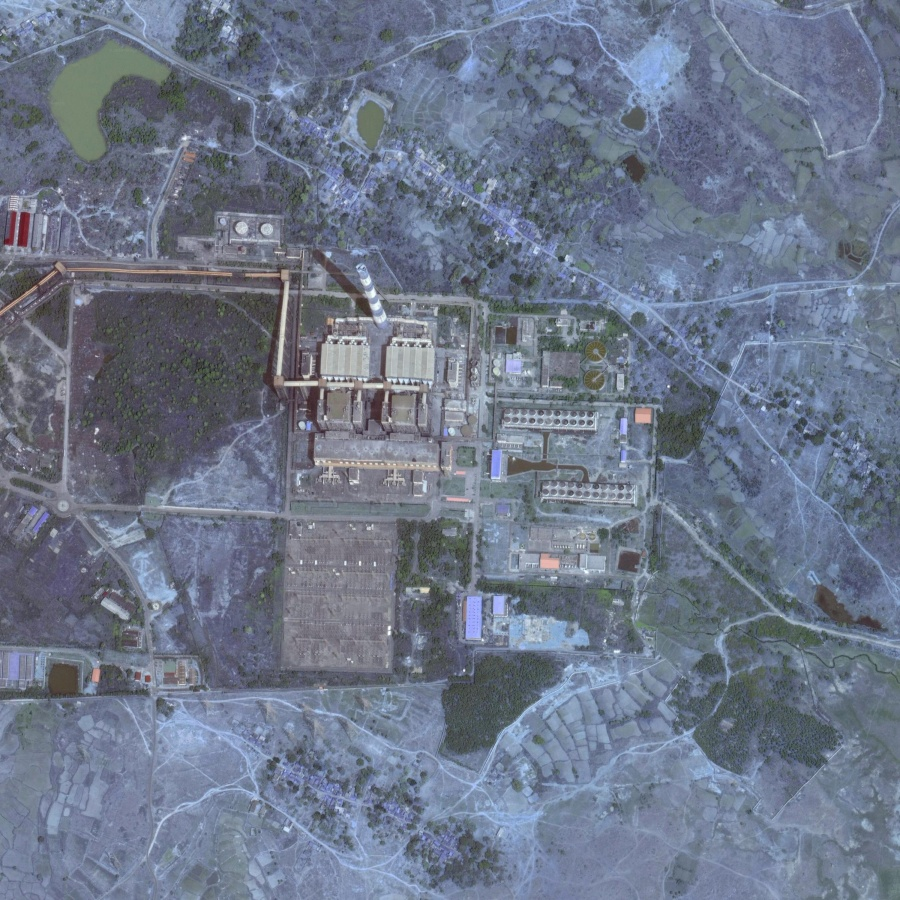PowerPlant: (287, 224, 441, 357)
